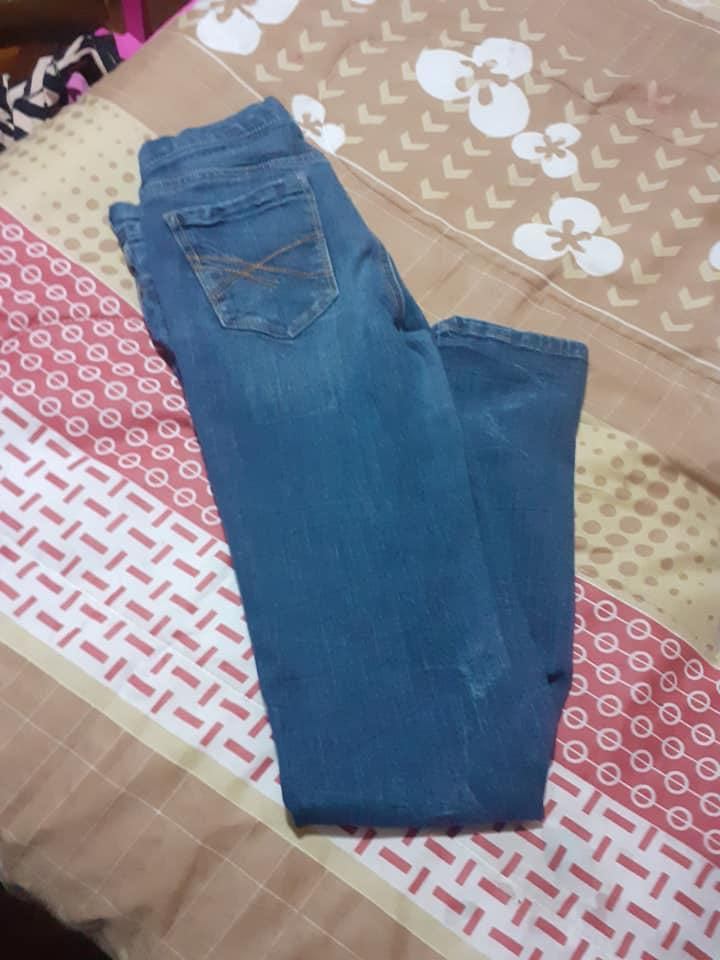jeans: (95, 90, 606, 847)
